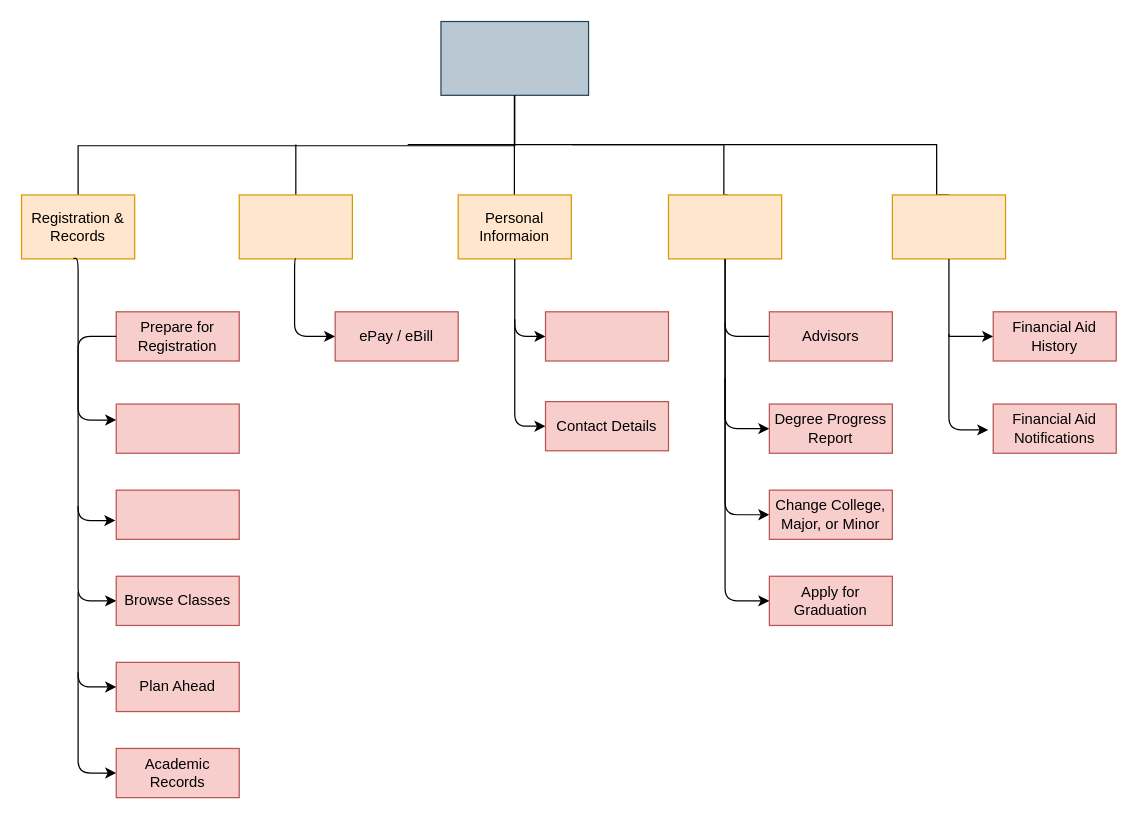
Some shapes in this 1138 by 819 pixel diagram are drawn without their labels. Each missing label, with the centre of its shape:
"Account Billing Information" belongs at (295,226).
"Campus Connect" belongs at (514,57).
"Financial Aid" belongs at (948,226).
"Graduation" belongs at (724,226).
"Personal Details" belongs at (606,336).
"Register for Classes" belongs at (177,514).
"View Class Schedules" belongs at (177,428).
